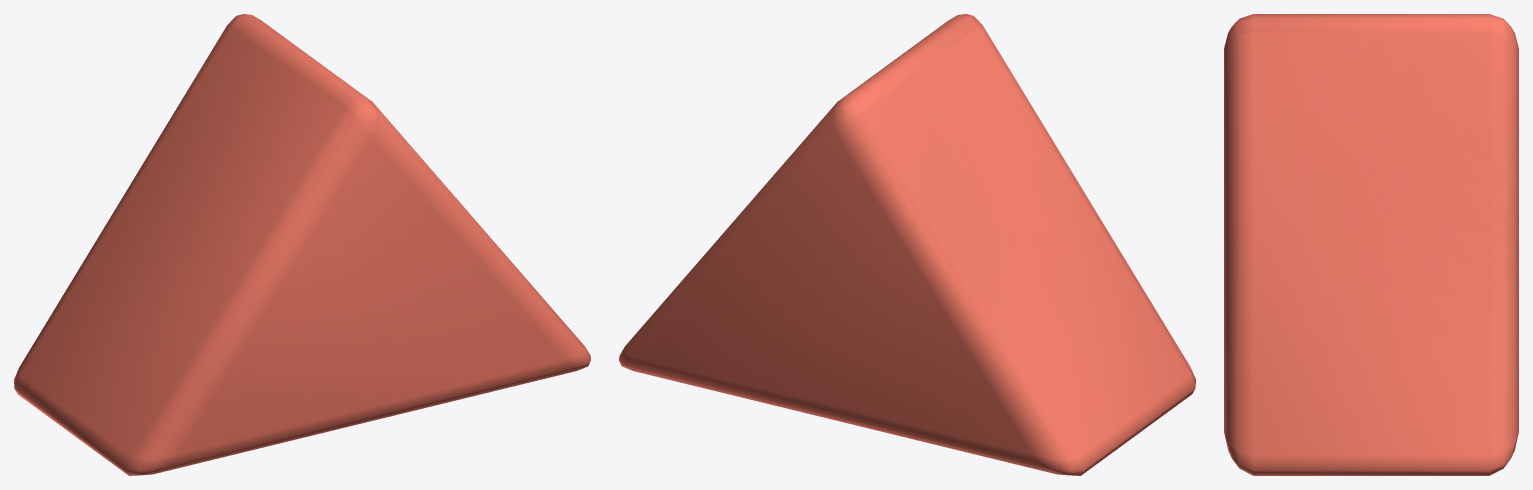
Rendered from block_tri.glb.
3 views of the same model, side by side, from view 1: azimuth 30°, elevation 25°; view 2: azimuth 150°, elevation 25°; view 3: azimuth 270°, elevation 25° (orthographic). The views are drawn at different scales.
Visible parts, largest first — view 1: BlockTri; view 2: BlockTri; view 3: BlockTri.
Boxes of the visible parts, box(x1,y1,x2,y2) form: BlockTri: box(14, 14, 590, 475); BlockTri: box(619, 14, 1195, 475); BlockTri: box(1224, 14, 1518, 475).
Size of what is drawn, in the model's own units: 0.1157 by 0.077 by 0.06.
1 material, 1 textured.
